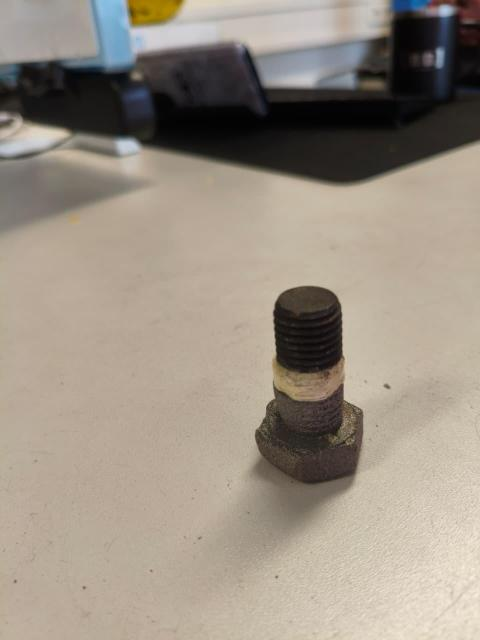Metal: (258, 280, 365, 480)
